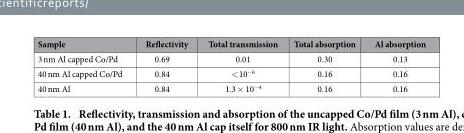table: (36, 37, 425, 94)
table column: (36, 37, 133, 94), (197, 37, 285, 94), (285, 37, 364, 94), (133, 37, 197, 94), (364, 37, 425, 94)
table column header: (36, 37, 425, 50)
table row: (36, 50, 425, 65), (36, 65, 425, 80), (36, 80, 425, 94), (36, 37, 425, 50)
